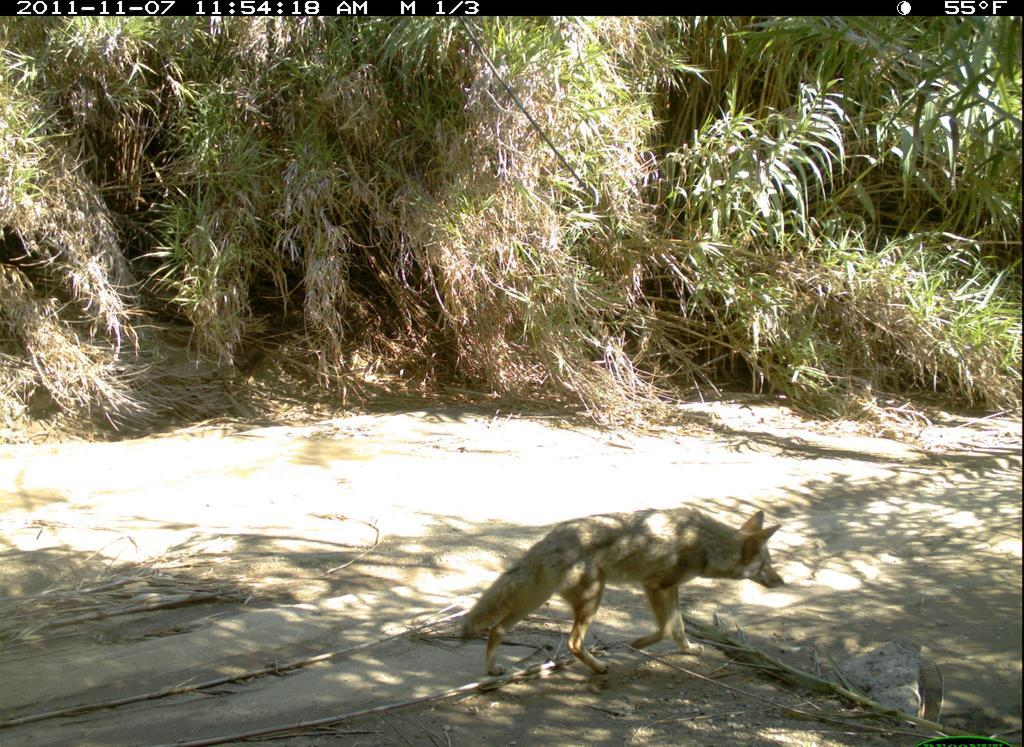coyote: (432, 477, 802, 698)
